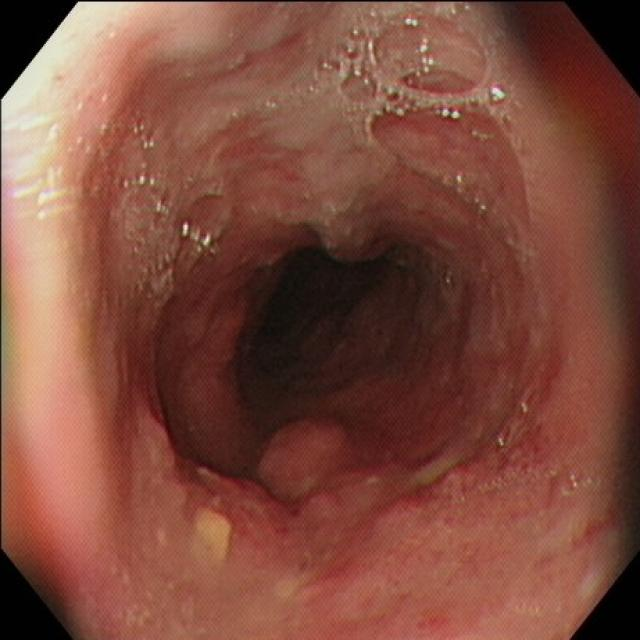A: (423, 410, 561, 514), (258, 413, 395, 517), (193, 456, 298, 545)
E: (243, 240, 405, 416)
J: (258, 6, 380, 205), (190, 504, 234, 566)
T: (316, 3, 519, 118), (103, 111, 221, 295)
U: (2, 96, 86, 505)
